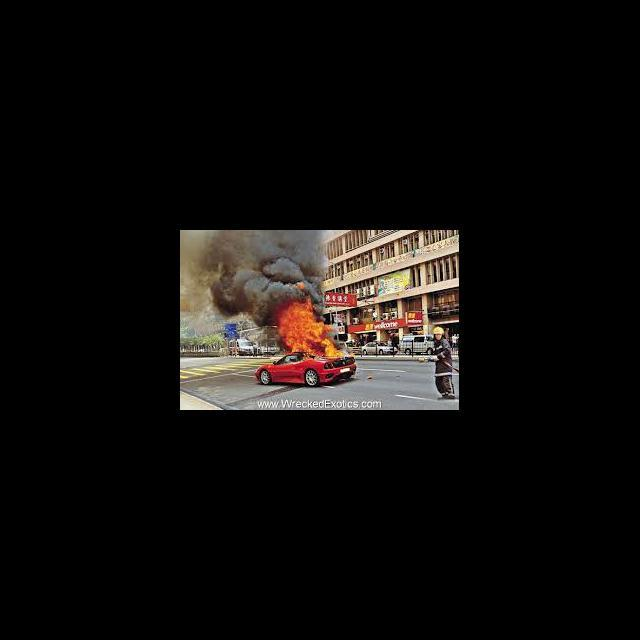Fire: (271, 294, 347, 358), (296, 282, 304, 290)
Smoke: (180, 230, 270, 316), (270, 231, 324, 278), (271, 278, 296, 294), (306, 278, 324, 294)
